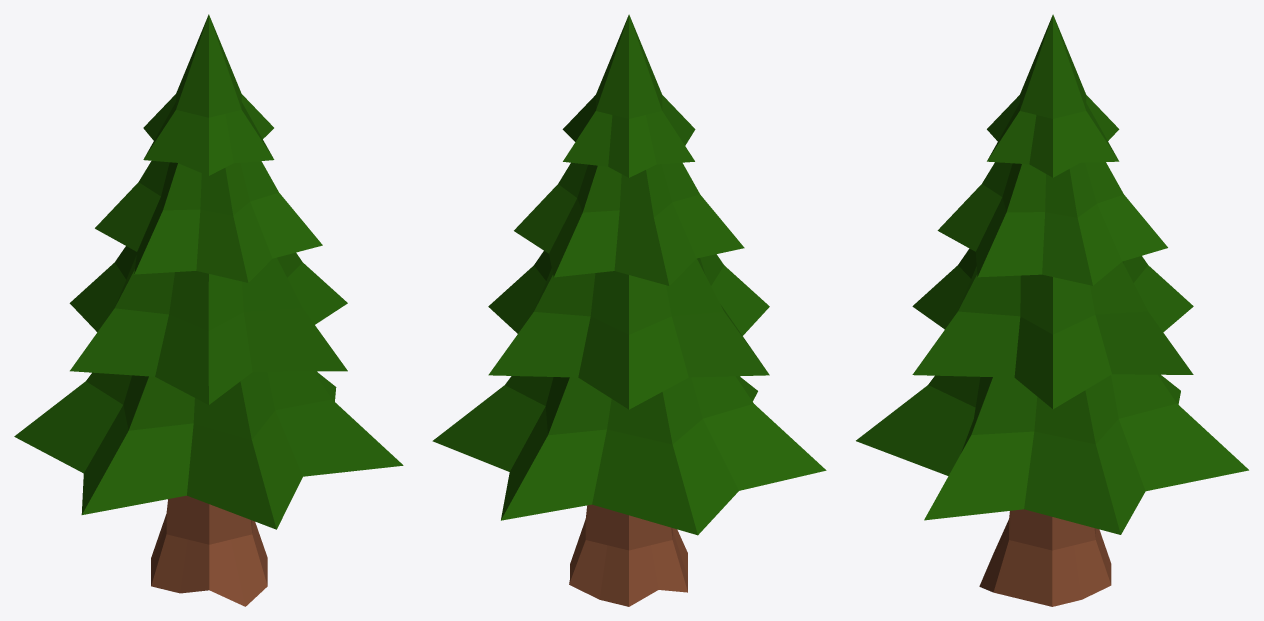
The model's file is Tree.FBX.
3 renders of one model, left to right at view 1: azimuth 30°, elevation 25°; view 2: azimuth 150°, elevation 25°; view 3: azimuth 270°, elevation 25°, orthographic.
Parts seen in each view (by area): view 1: Cylinder003; view 2: Cylinder003; view 3: Cylinder003.
Part boxes in pixels (x1,y1,x2,y2): Cylinder003: [14, 14, 403, 606]; Cylinder003: [432, 14, 826, 606]; Cylinder003: [856, 14, 1248, 606].
Size of the model in its own units: 618 by 1037 by 647.
Materials: 1 (1 with a texture image).
